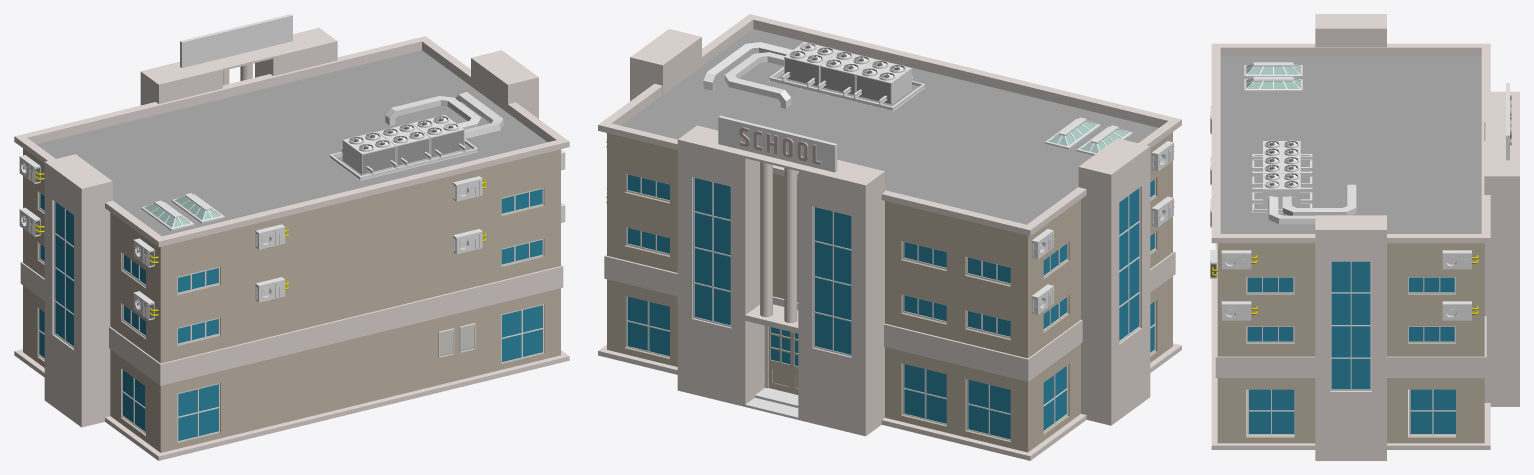
The model's file is School.obj.
The picture shows the model from 3 angles, left to right: view 1: azimuth 30°, elevation 25°; view 2: azimuth 150°, elevation 25°; view 3: azimuth 270°, elevation 25°; orthographic projection. The views are drawn at different scales.
Visible parts, largest first — view 1: School, Turbine_AC_2, Board, Window_1_2, Window_3_2, Window_4, Top_Ventilation1, Top_Ventilation2, Windows_1_3, Windows_2_4, Windows_3_4, Windows_5_4 (+4 smaller); view 2: School, Turbine_AC_2, Board, Window_1, Window_3, Window, Door_12, Window_2, School_Text, Top_Ventilation2, Windows_11, Windows_1_2 (+5 smaller); view 3: School, Turbine_AC_2, Window_6, Window_5, Top_Ventilation2, Windows_13, Windows_12, Top_Ventilation1, Windows_11_2, Windows_10_2, AC_5, AC_7 (+2 smaller).
Boxes of the visible parts, <box> form: School: <box>14,28,569,460</box>; Turbine_AC_2: <box>329,92,503,180</box>; Board: <box>180,14,292,67</box>; Window_1_2: <box>177,383,219,442</box>; Window_3_2: <box>501,304,543,363</box>; Window_4: <box>122,369,145,433</box>; Top_Ventilation1: <box>141,200,194,230</box>; Top_Ventilation2: <box>171,193,224,223</box>; Windows_1_3: <box>177,266,219,294</box>; Windows_2_4: <box>501,187,543,215</box>; Windows_3_4: <box>501,238,543,266</box>; Windows_5_4: <box>177,317,219,345</box>; School: <box>598,14,1181,460</box>; Turbine_AC_2: <box>703,42,925,111</box>; Board: <box>718,115,837,172</box>; Window_1: <box>966,379,1010,440</box>; Window_3: <box>625,296,669,357</box>; Window: <box>903,364,946,424</box>; Door_12: <box>765,325,798,394</box>; Window_2: <box>1043,365,1068,431</box>; School_Text: <box>739,127,821,164</box>; Top_Ventilation2: <box>1045,117,1100,149</box>; Windows_11: <box>902,241,946,269</box>; Windows_1_2: <box>966,257,1010,285</box>; School: <box>1211,14,1519,460</box>; Turbine_AC_2: <box>1252,140,1356,224</box>; Window_6: <box>1247,389,1294,435</box>; Window_5: <box>1409,389,1455,435</box>; Top_Ventilation2: <box>1244,76,1302,91</box>; Windows_13: <box>1246,326,1294,343</box>; Windows_12: <box>1408,326,1455,343</box>; Top_Ventilation1: <box>1244,62,1302,77</box>; Windows_11_2: <box>1246,277,1294,293</box>; Windows_10_2: <box>1408,277,1455,293</box>; AC_5: <box>1442,301,1478,320</box>; AC_7: <box>1442,250,1478,269</box>.
Bounding box in the file's own units: 102 × 56.14 × 61.64.
